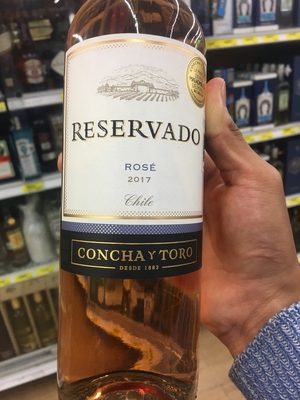reservado rose: (49, 6, 212, 391)
